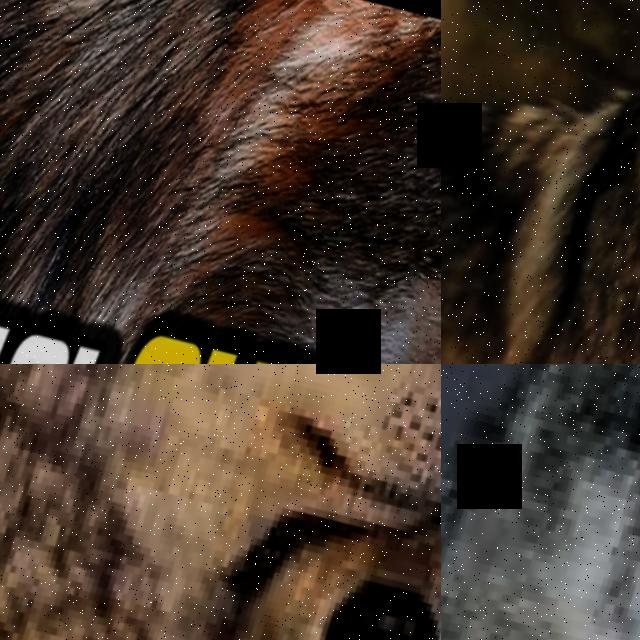wolf: (0, 0, 441, 364), (0, 364, 441, 640), (104, 364, 441, 640), (441, 0, 640, 364), (441, 364, 640, 640)
